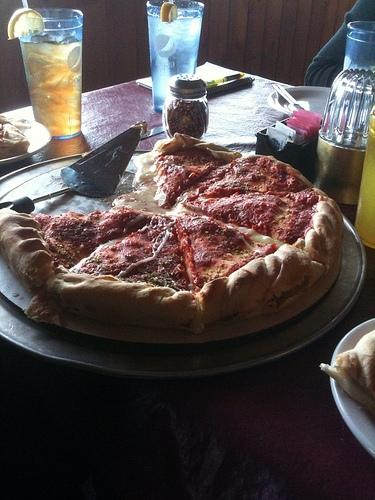lemon: (7, 8, 44, 40), (161, 2, 178, 22)
